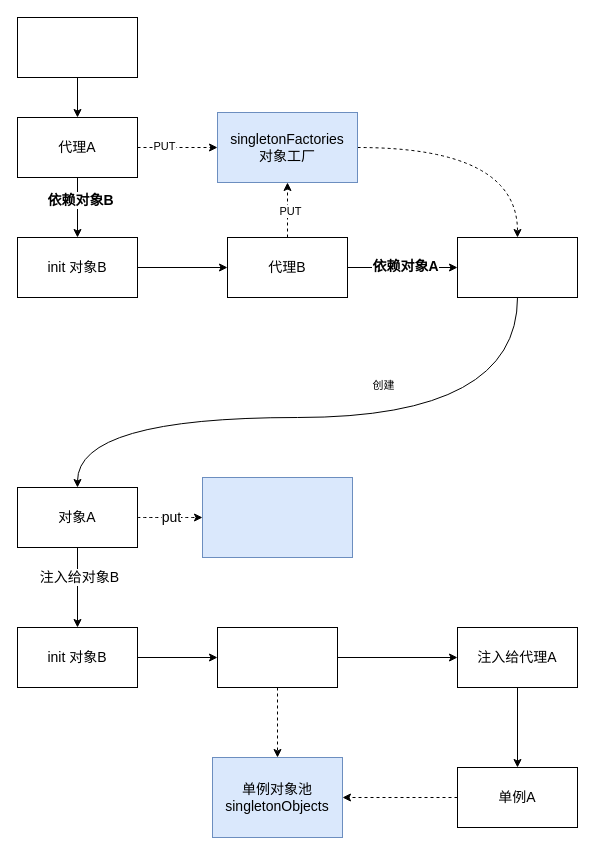
Some shapes in this 595 by 855 pixel diagram are drawn without their labels. Each missing label, with the box of its shape:
init 对象A: (16, 16, 138, 78)
单例B: (216, 626, 338, 688)
找到代理A: (456, 236, 578, 298)
早期对象池 (earlySingletonObjects): (202, 476, 352, 558)
